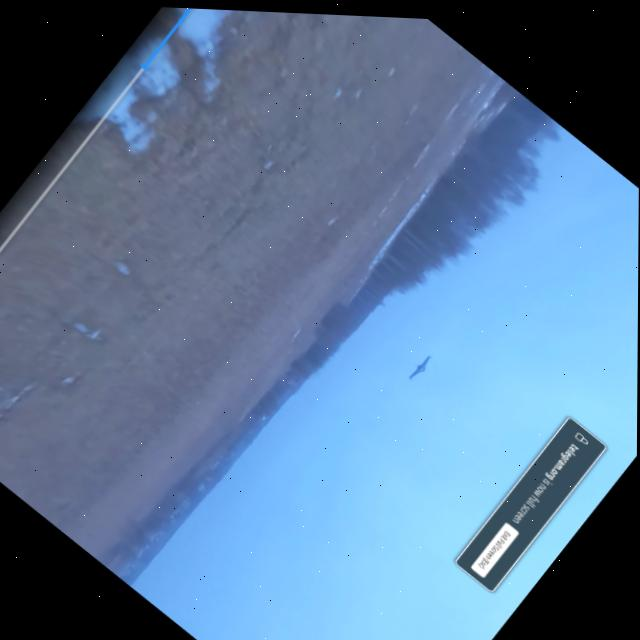planedrone: (403, 349, 438, 388)
